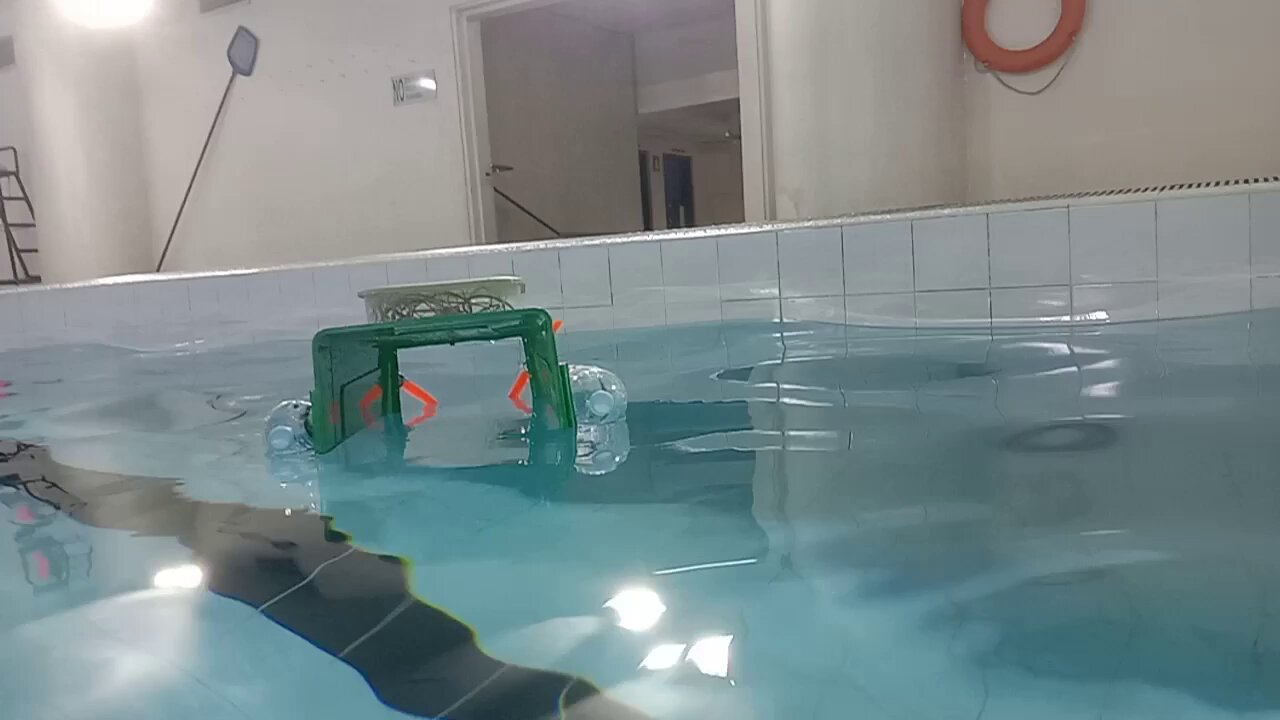drone: (262, 272, 632, 464)
